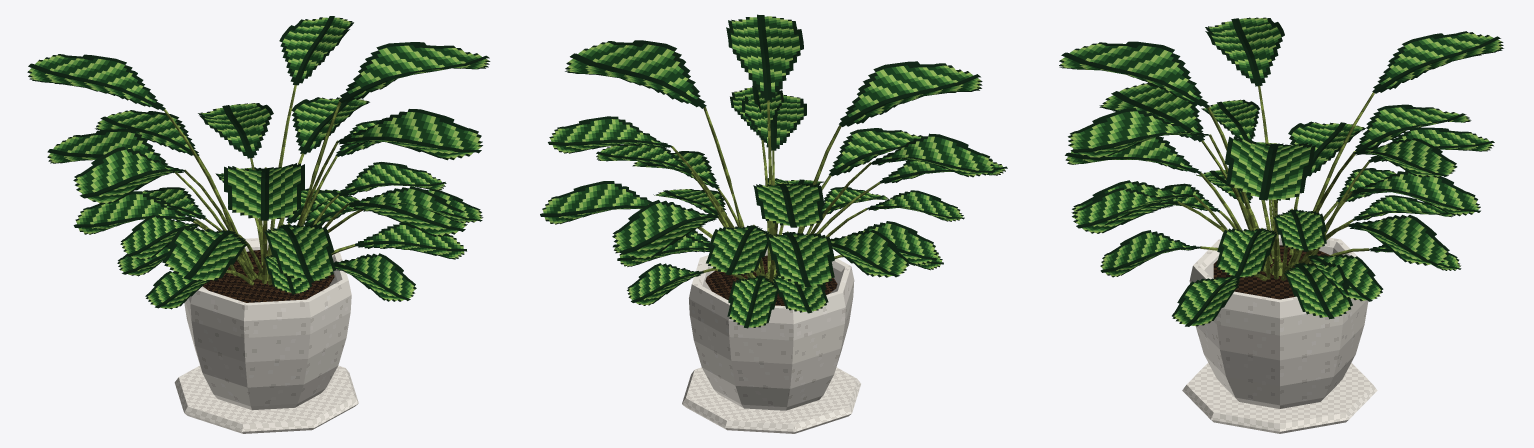
File: Calathea.gltf
The picture shows the model from 3 angles, left to right: view 1: azimuth 30°, elevation 25°; view 2: azimuth 150°, elevation 25°; view 3: azimuth 270°, elevation 25°; orthographic projection. The views are drawn at different scales.
Visible parts, largest first — view 1: Pot.001, Saucer.001, Leaf_025.001, Leaf_019.001, Leaf_018.001, Leaf_023, Leaf_014.001, Leaf_001.001, Leaf_016.001, Leaf_012.001, Leaf_027, Leaf_000.001 (+17 smaller); view 2: Pot.001, Saucer.001, Leaf_019.001, Leaf_023, Leaf_025.001, Leaf_000.001, Leaf_008.001, Leaf_006.001, Leaf_014.001, Leaf_027, Leaf_018.001, Leaf_007.001 (+17 smaller); view 3: Pot.001, Saucer.001, Leaf_019.001, Leaf_023, Leaf_018.001, Leaf_025.001, Leaf_014.001, Leaf_006.001, Leaf_000.001, Leaf_004.001, Leaf_001.001, Leaf_017.001 (+18 smaller).
Boxes of the visible parts, x1,y1,x2,y2 form: Pot.001: (184, 238, 351, 410); Saucer.001: (174, 365, 358, 433); Leaf_025.001: (336, 109, 482, 160); Leaf_019.001: (338, 42, 490, 102); Leaf_018.001: (27, 54, 165, 110); Leaf_023: (224, 163, 304, 220); Leaf_014.001: (73, 146, 185, 204); Leaf_001.001: (162, 226, 247, 281); Leaf_016.001: (264, 224, 335, 282); Leaf_012.001: (347, 186, 467, 237); Leaf_027: (279, 16, 353, 85); Leaf_000.001: (198, 103, 273, 158); Pot.001: (689, 248, 854, 410); Saucer.001: (682, 367, 860, 433); Leaf_019.001: (565, 40, 706, 108); Leaf_023: (839, 61, 982, 126); Leaf_025.001: (726, 14, 803, 100); Leaf_000.001: (612, 200, 718, 259); Leaf_008.001: (766, 232, 834, 286); Leaf_006.001: (540, 181, 651, 224); Leaf_014.001: (870, 133, 994, 177); Leaf_027: (548, 116, 672, 153); Leaf_018.001: (753, 183, 824, 227); Leaf_007.001: (706, 225, 772, 275); Pot.001: (1189, 230, 1368, 408); Saucer.001: (1182, 362, 1377, 433); Leaf_019.001: (1224, 136, 1315, 200); Leaf_023: (1059, 41, 1209, 108); Leaf_018.001: (1372, 31, 1503, 93); Leaf_025.001: (1068, 108, 1209, 158); Leaf_014.001: (1205, 17, 1284, 86); Leaf_006.001: (1348, 215, 1449, 265); Leaf_000.001: (1351, 170, 1480, 216); Leaf_004.001: (1284, 262, 1352, 319); Leaf_001.001: (1099, 82, 1205, 141); Leaf_017.001: (1074, 187, 1178, 233).
Bounding box in the file's own units: 4.66 × 3.25 × 4.39.
5 materials, 5 textured.
